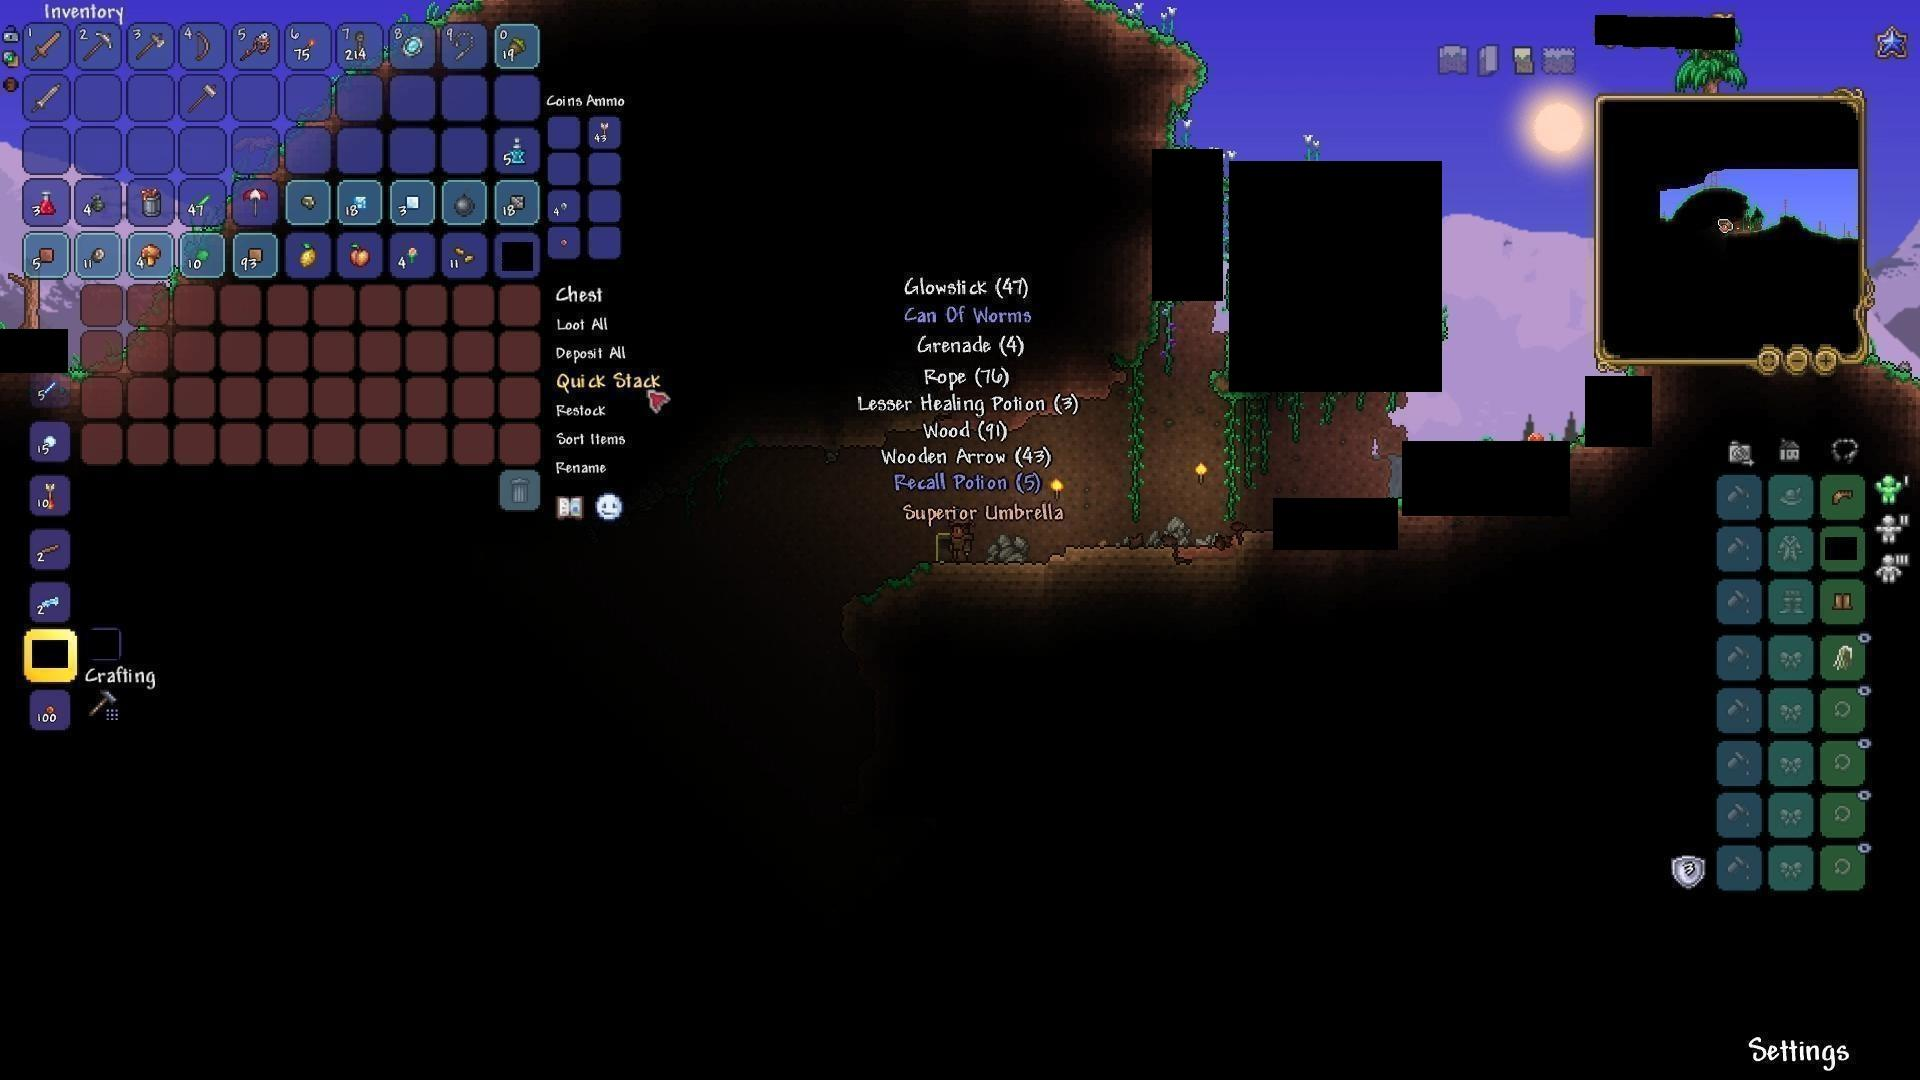dirt: (1106, 7, 1211, 83), (1862, 352, 1920, 404)
helmet: (1826, 481, 1862, 512)
legs: (1830, 588, 1855, 618)
